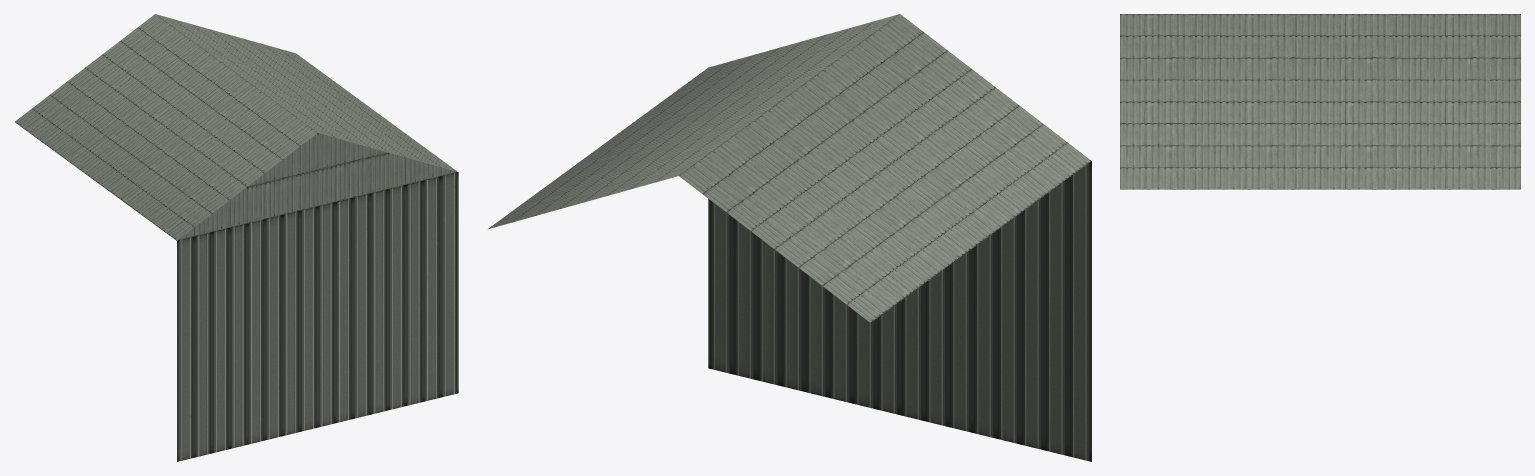
File: hangar.FBX
3 views of the same model, side by side, from view 1: azimuth 30°, elevation 25°; view 2: azimuth 150°, elevation 25°; view 3: azimuth 270°, elevation 25° (orthographic). The views are drawn at different scales.
Parts seen in each view (by area): view 1: hangar, hangar_d; view 2: hangar, hangar_d; view 3: hangar.
Part boxes in pixels (box(x1,y1,x2,y2)): hangar: box(15, 14, 458, 461); hangar_d: box(247, 189, 388, 444); hangar: box(488, 14, 1091, 461); hangar_d: box(804, 231, 995, 438); hangar: box(1120, 14, 1520, 189).
Bounding box in the file's own units: 200 × 200 × 200.
